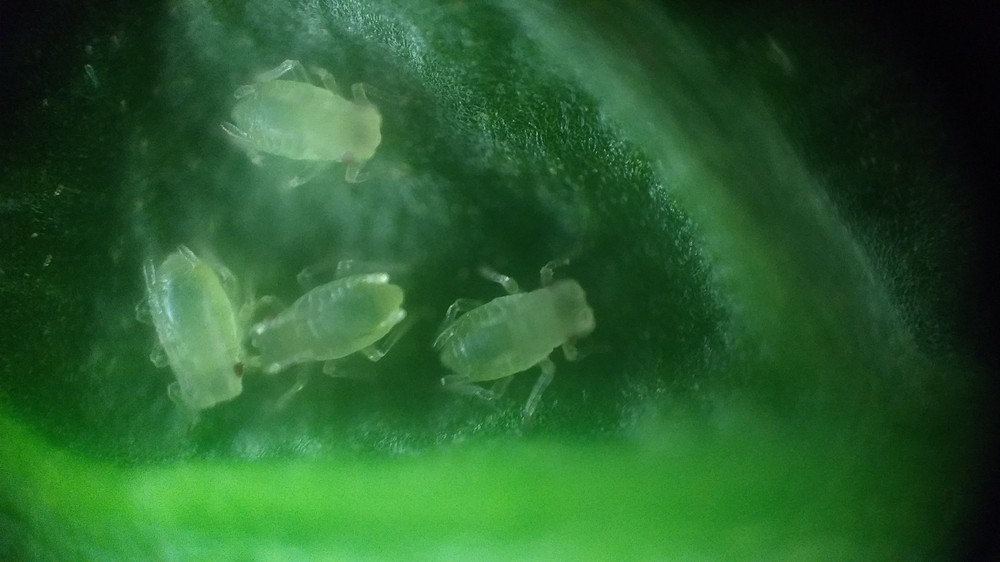Pulgon: (430, 235, 619, 415), (211, 54, 409, 197), (115, 223, 259, 412), (246, 237, 419, 390)
